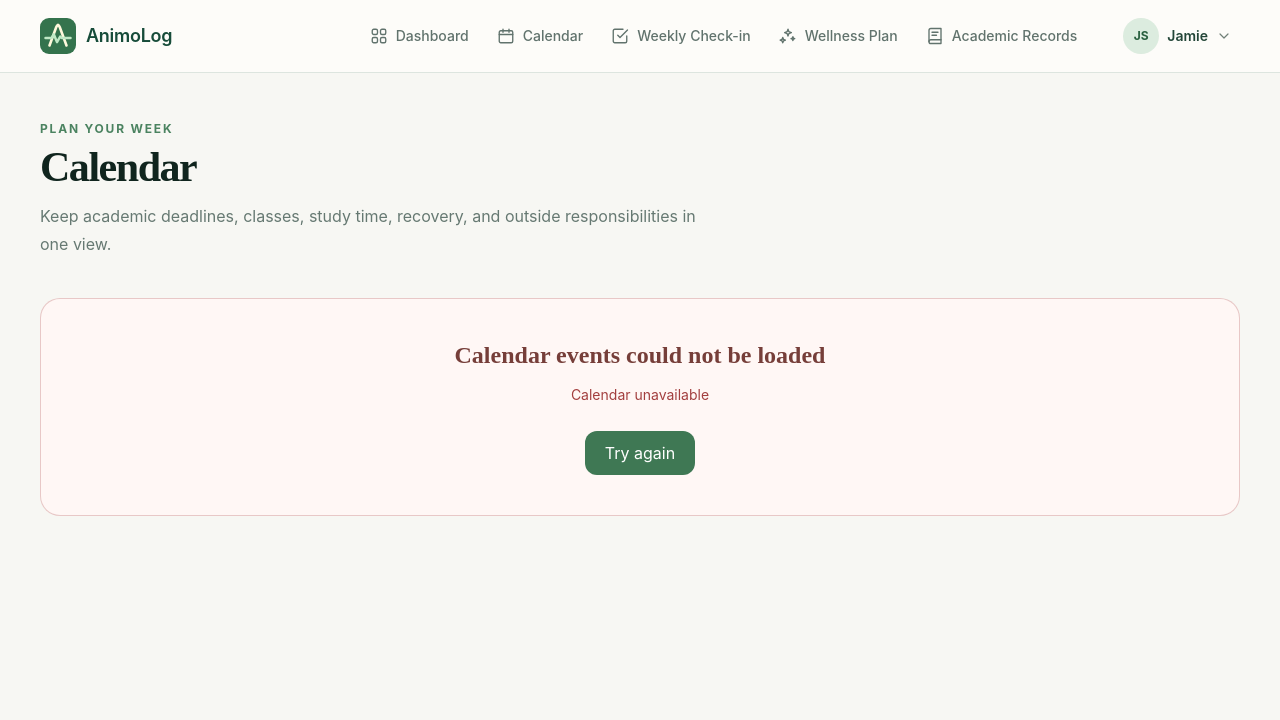
Scenario: Calendar page › shows load failures and retries
This screenshot has width=1280, height=720.
Expected: the text "Calendar unavailable" is shown, left=571, top=386, right=709, bottom=403
What coordinates should you click on to do the following:
click the button "Try again"
I would click on:
 (640, 453)
Its box is left=585, top=431, right=695, bottom=475.
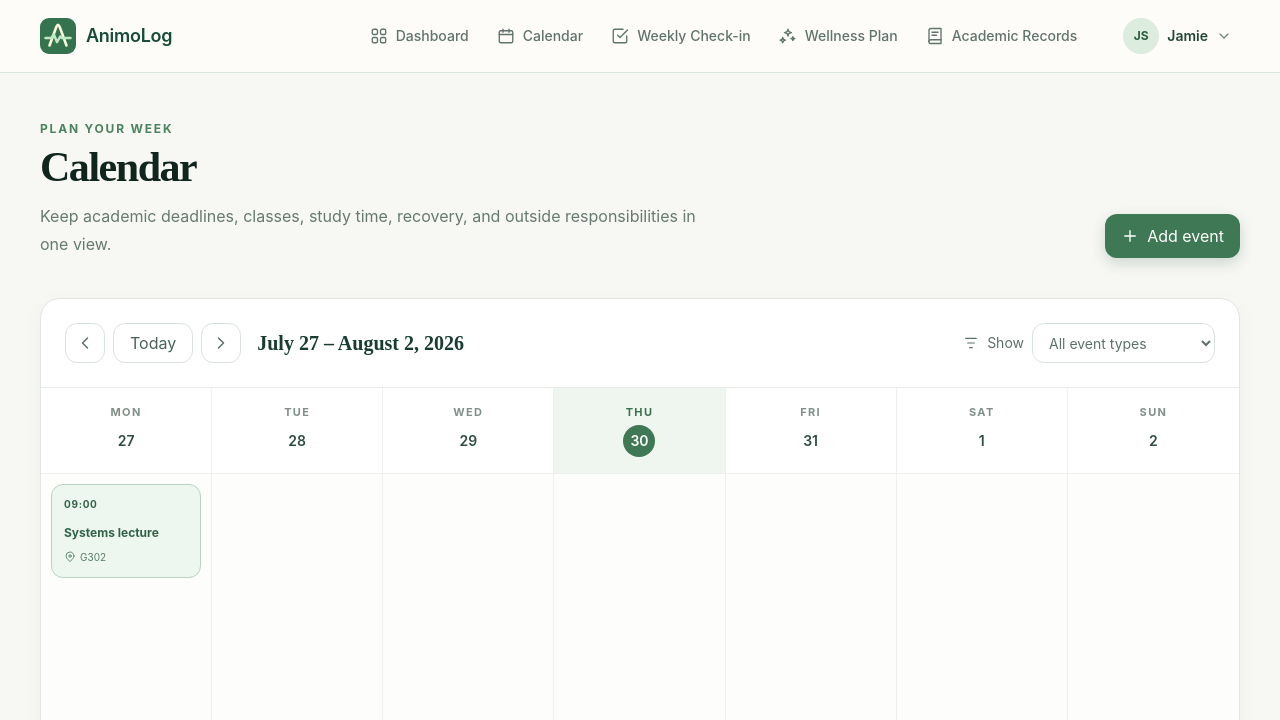
Expected: the heading "Systems lecture" is shown, left=64, top=525, right=159, bottom=540
